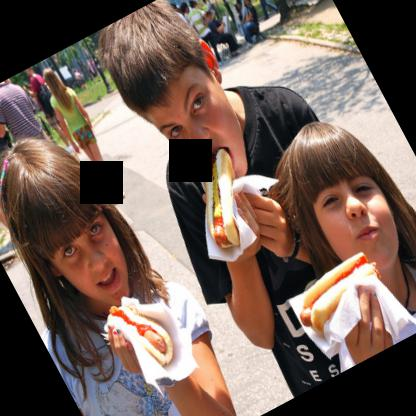backpack: (29, 76, 55, 116)
